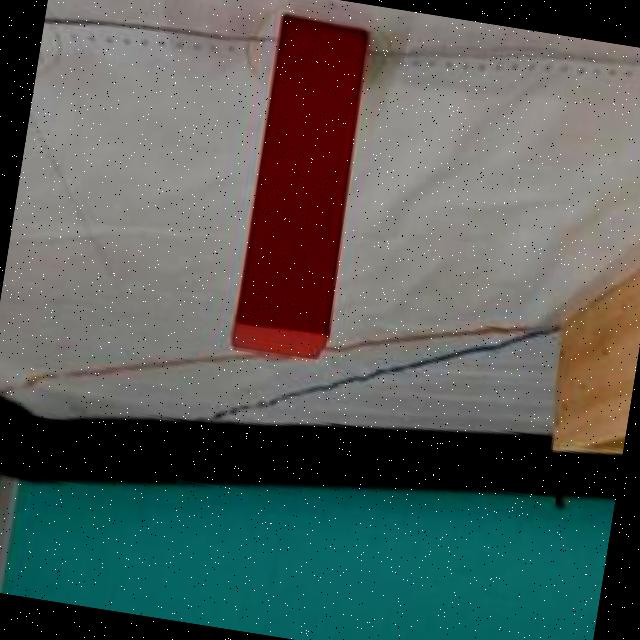redbox: (226, 12, 376, 368)
